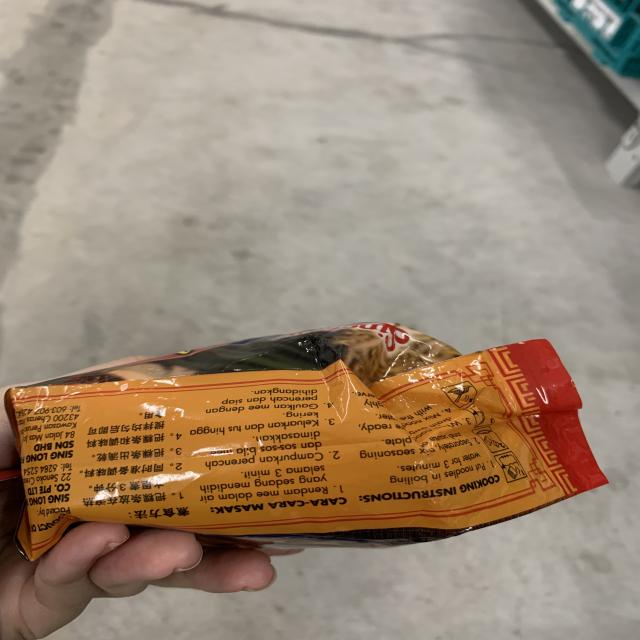object_name: (14, 331, 556, 539)
